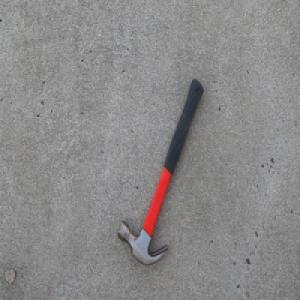Hammer: (117, 77, 204, 267)
